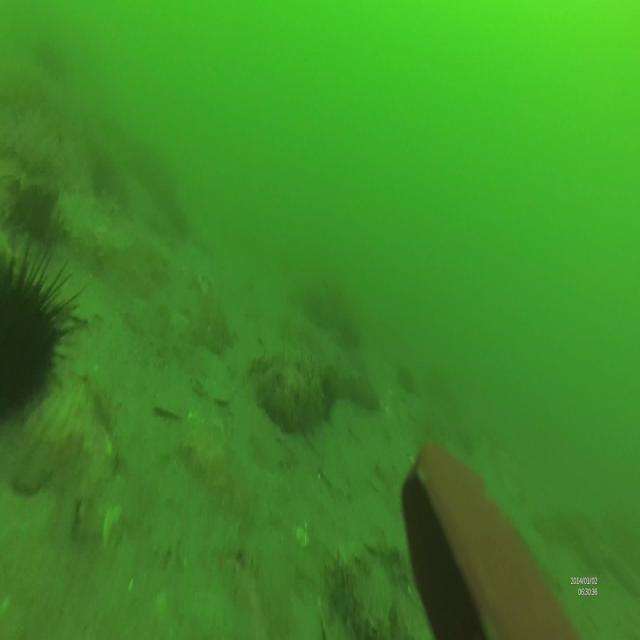echinus: (1, 241, 84, 425)
holothurian: (323, 548, 393, 640)
